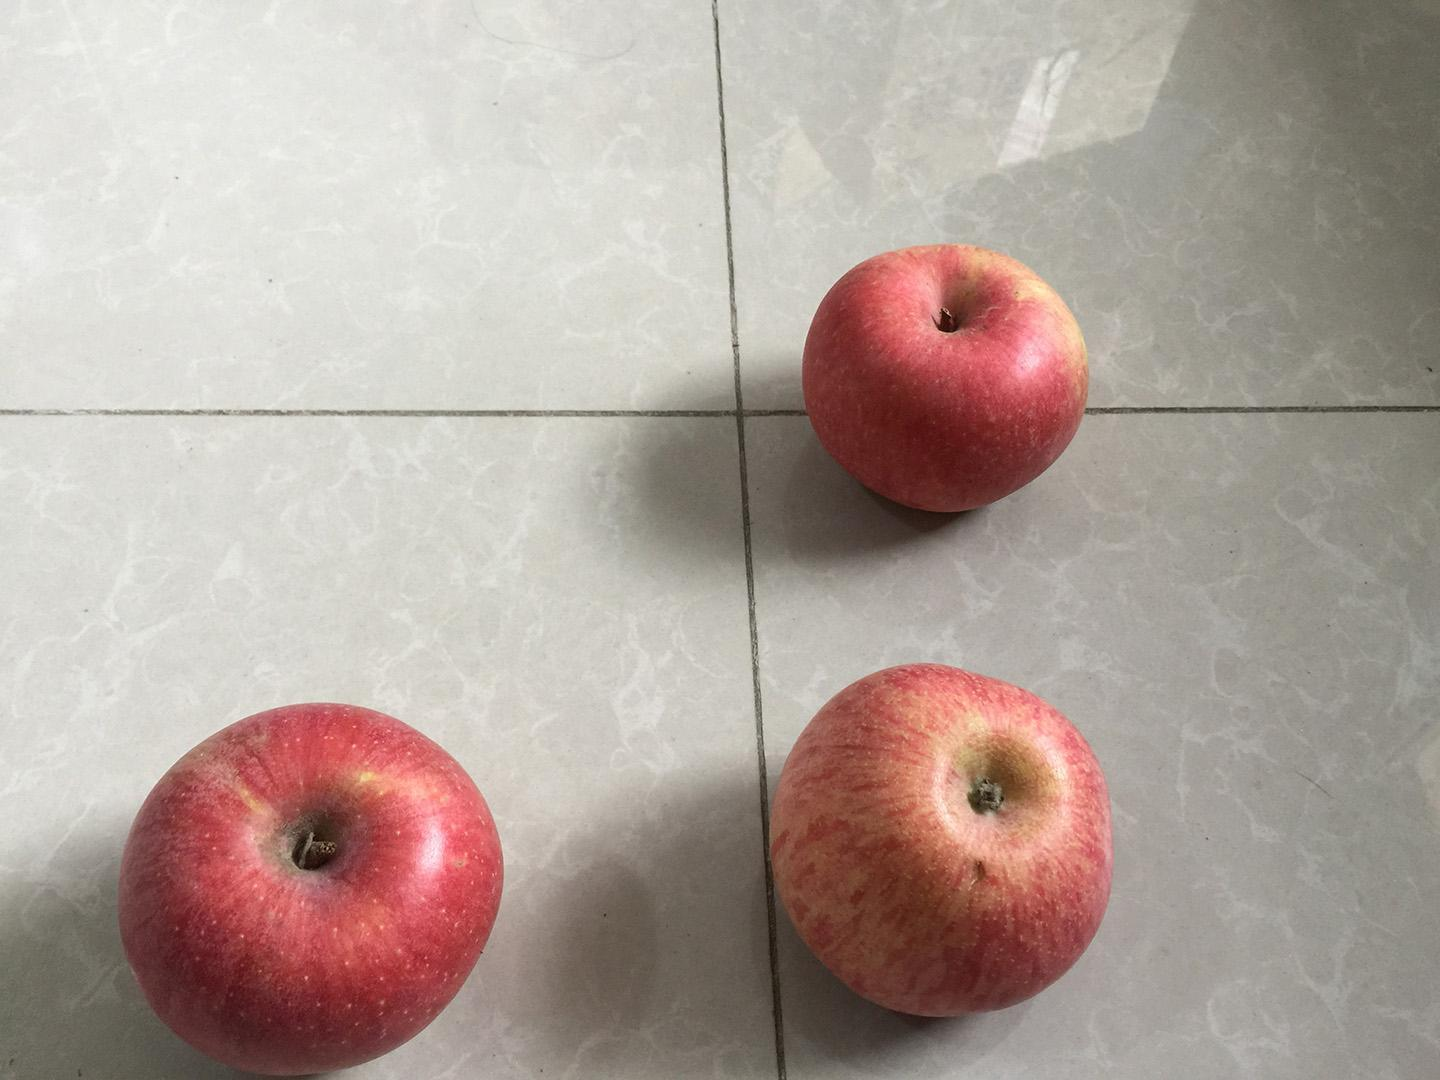apple: (110, 697, 513, 1077), (756, 653, 1125, 1026), (790, 225, 1099, 524)
